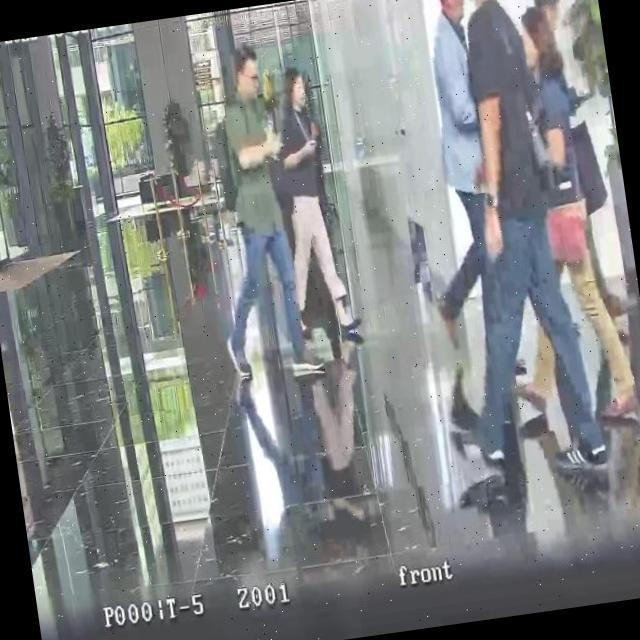person: (452, 0, 608, 482), (511, 0, 640, 432), (185, 38, 319, 383), (394, 0, 515, 336), (264, 60, 364, 356)
